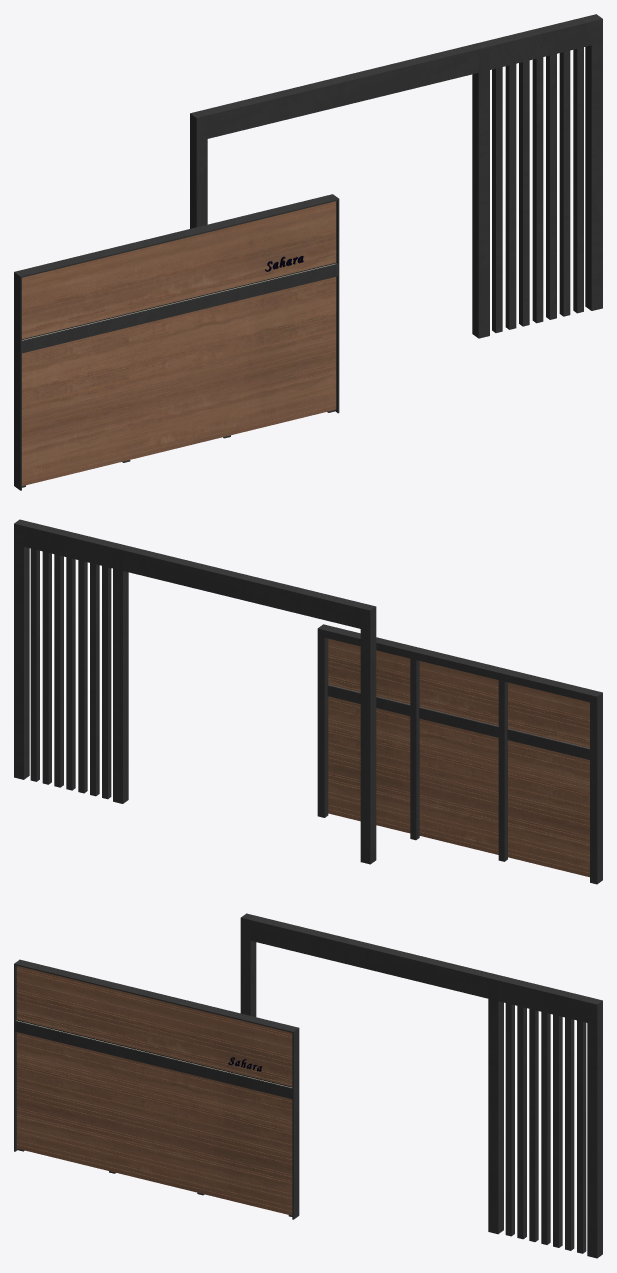
File: hym8_jara.fbx
3 renders of one model, top to bottom at view 1: azimuth 30°, elevation 25°; view 2: azimuth 150°, elevation 25°; view 3: azimuth 330°, elevation 25°, orthographic. The views are drawn at different scales.
Visible parts, largest first — view 1: hym8-jara; view 2: hym8-jara; view 3: hym8-jara.
Boxes of the visible parts, x1,y1,x2,y2 form: hym8-jara: [14, 14, 602, 490]; hym8-jara: [14, 519, 602, 884]; hym8-jara: [14, 913, 602, 1258].
Bounding box in the file's own units: 552 × 245 × 74.45.
Materials: 7 (4 with a texture image).
